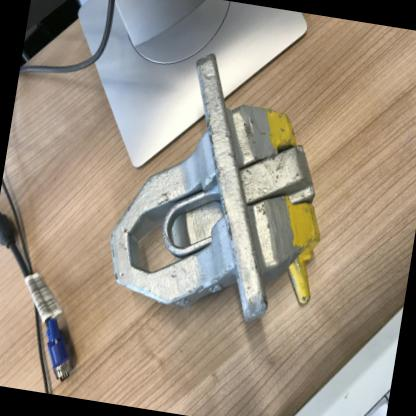Twistlock: (97, 36, 353, 339)
